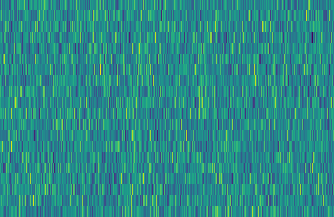signal: (126, 0, 146, 217)
